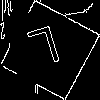L: (25, 25, 66, 77)
